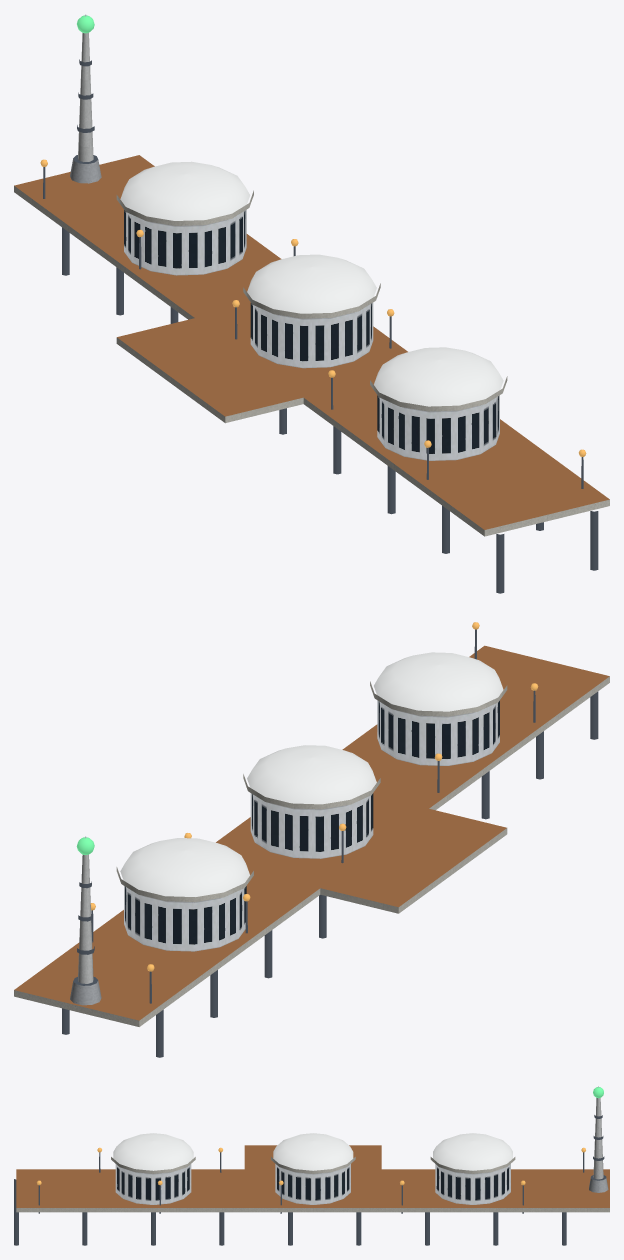
File: earth_coastal_lounge_pier.glb
3 views of the same model, one above another, from view 1: azimuth 30°, elevation 25°; view 2: azimuth 150°, elevation 25°; view 3: azimuth 270°, elevation 25° (orthographic). The views are drawn at different scales.
Parts seen in each view (by area): view 1: earth_coastal_lounge_pier_LOD0; view 2: earth_coastal_lounge_pier_LOD0; view 3: earth_coastal_lounge_pier_LOD0.
Boxes of the visible parts, box(x1,y1,x2,y2) form: earth_coastal_lounge_pier_LOD0: box(14, 14, 609, 593); earth_coastal_lounge_pier_LOD0: box(14, 622, 609, 1057); earth_coastal_lounge_pier_LOD0: box(14, 1086, 609, 1245).
Size of what is drawn, in the model's own units: 13 by 13.9 by 52.22.
Materials: 3 (3 with a texture image).
